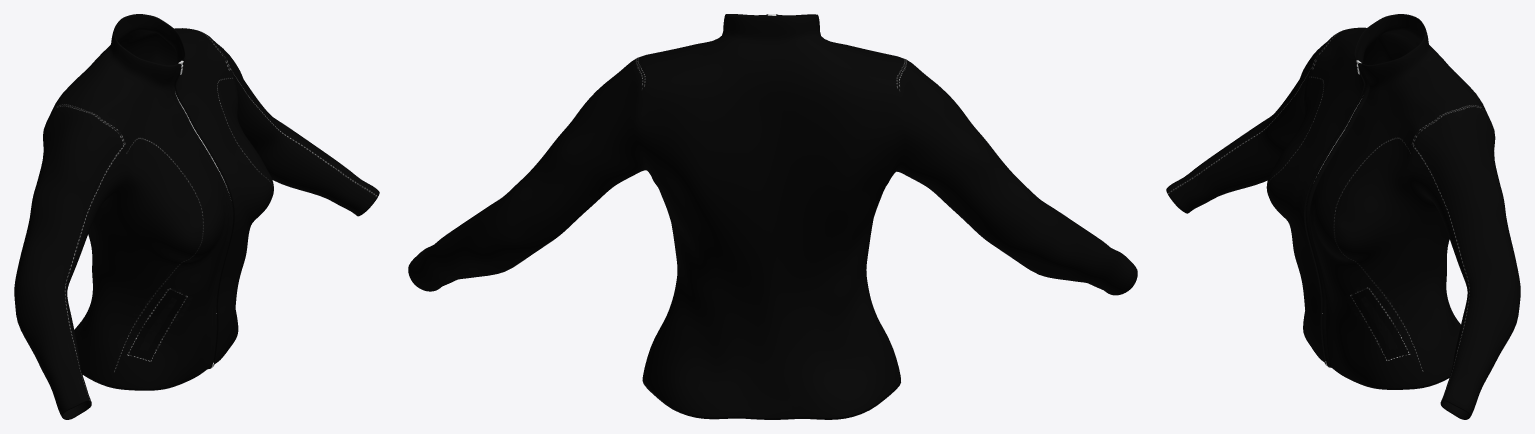
The model's file is char.fbx.
3 views of the same model, side by side, from view 1: azimuth 30°, elevation 25°; view 2: azimuth 150°, elevation 25°; view 3: azimuth 270°, elevation 25° (orthographic). The views are drawn at different scales.
Parts seen in each view (by area): view 1: Fem_01n:Body.001; view 2: Fem_01n:Body.001; view 3: Fem_01n:Body.001.
Boxes of the visible parts, box(x1,y1,x2,y2) form: Fem_01n:Body.001: box(14, 14, 379, 419); Fem_01n:Body.001: box(408, 14, 1137, 419); Fem_01n:Body.001: box(1166, 14, 1520, 419).
Size of the model in its own units: 741 by 509 by 499.
